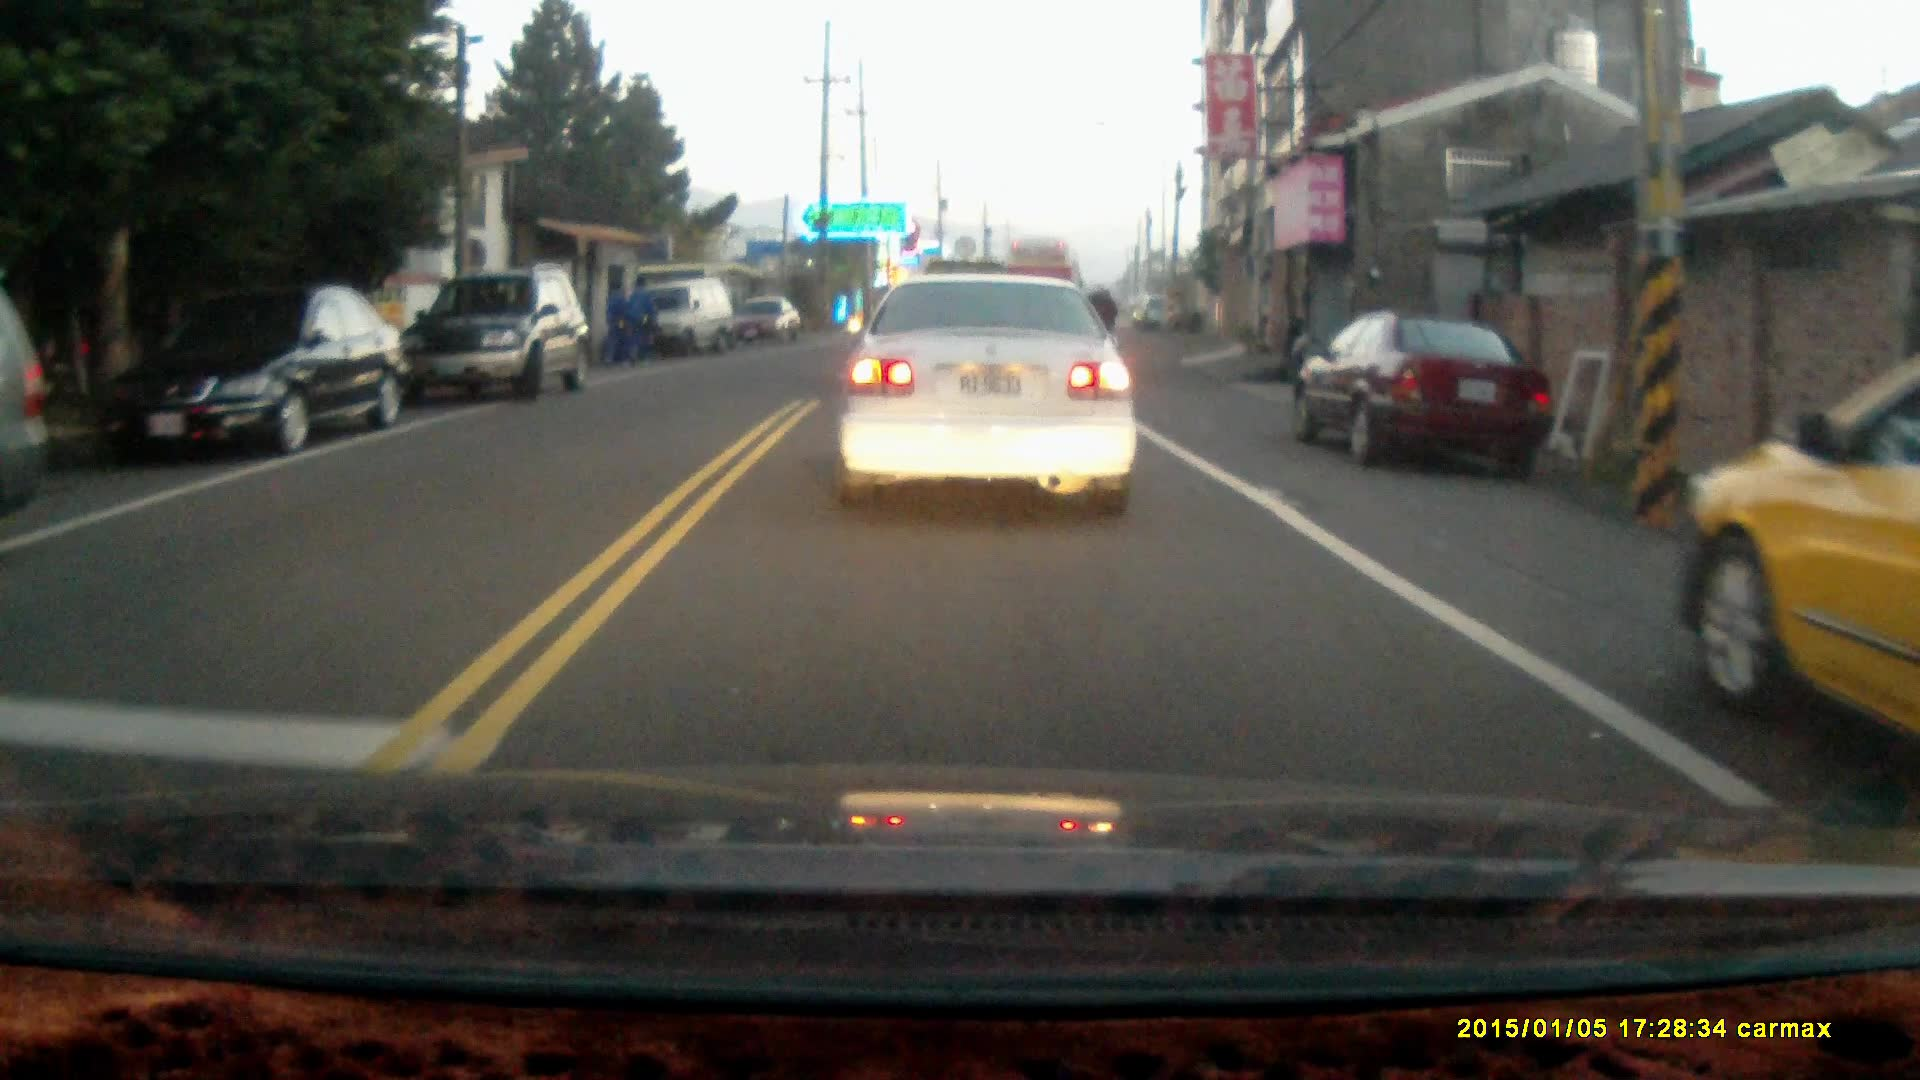pedestrian: (600, 273, 630, 363), (624, 270, 653, 363)
vehicle: (1690, 341, 1920, 743), (839, 267, 1142, 514), (106, 284, 408, 455), (1294, 309, 1554, 475), (401, 267, 590, 404), (629, 284, 742, 363), (718, 294, 803, 356)
